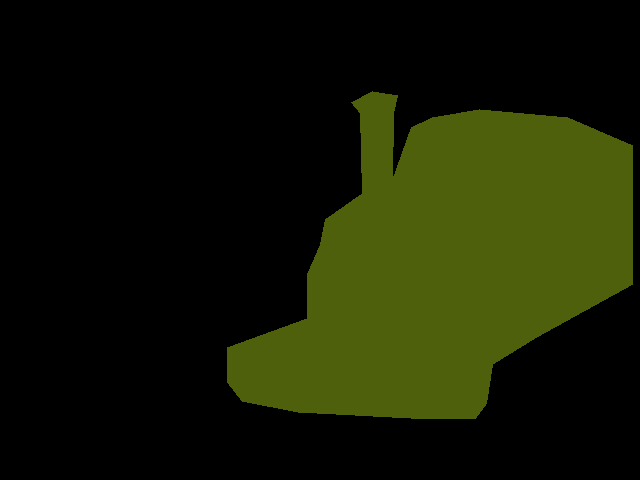Train: (227, 91, 632, 418)
